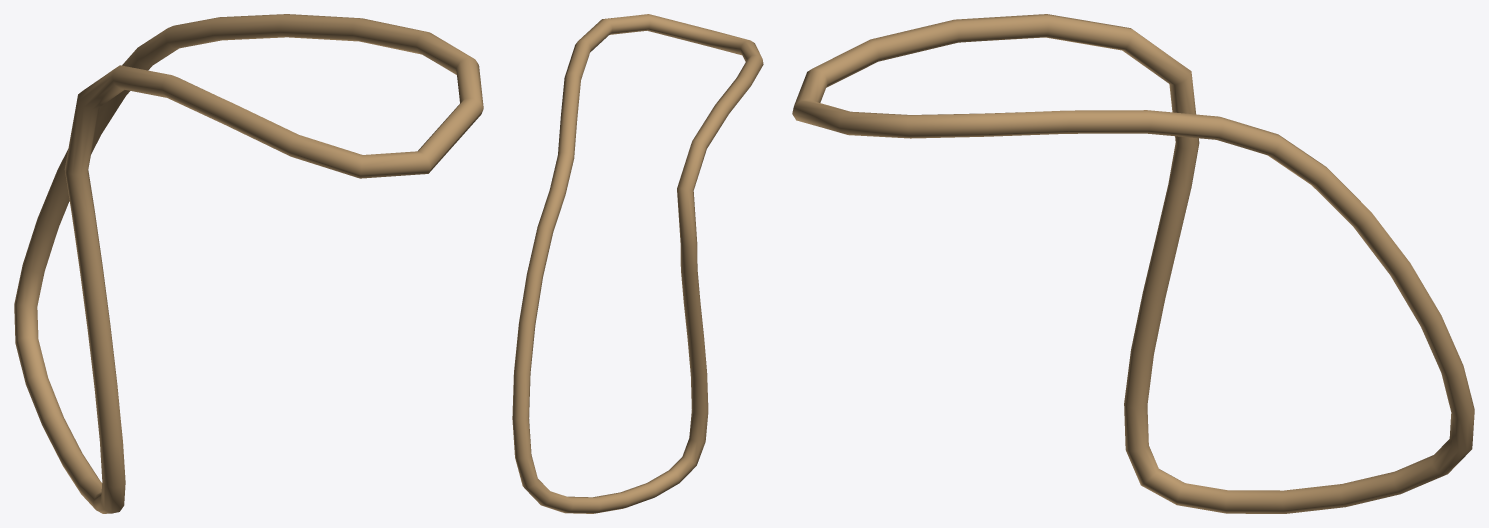
Rendered from Verevka.fbx.
3 views of the same model, side by side, from view 1: azimuth 30°, elevation 25°; view 2: azimuth 150°, elevation 25°; view 3: azimuth 270°, elevation 25° (orthographic). The views are drawn at different scales.
Visible parts, largest first — view 1: Verevka; view 2: Verevka; view 3: Verevka.
Part boxes in pixels (left/top/right/bottom): Verevka: left=14, top=14, right=483, bottom=513; Verevka: left=512, top=14, right=763, bottom=513; Verevka: left=792, top=14, right=1474, bottom=513.
Size of the model in its own units: 17.87 by 31.22 by 38.28.
